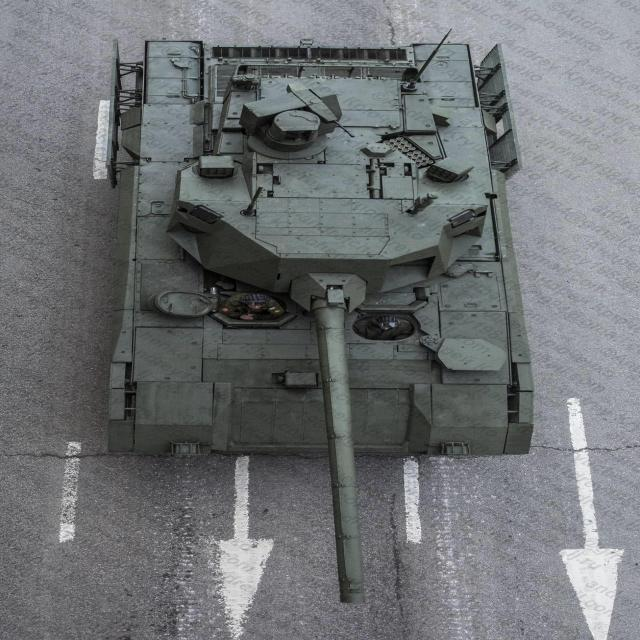MIL_MBT: (96, 23, 583, 605)
